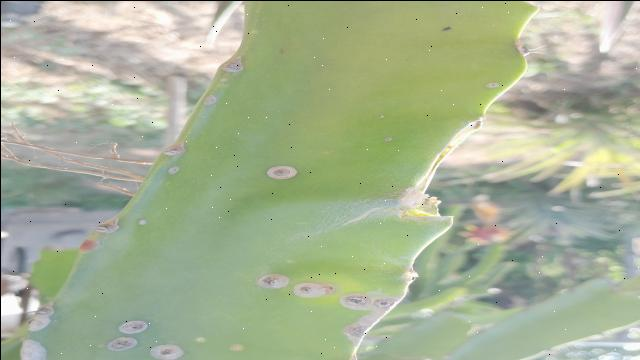stemcanker: (101, 316, 186, 360), (258, 158, 303, 182), (192, 330, 210, 349), (478, 80, 504, 93), (165, 163, 185, 178), (224, 342, 248, 354), (135, 216, 154, 230)
